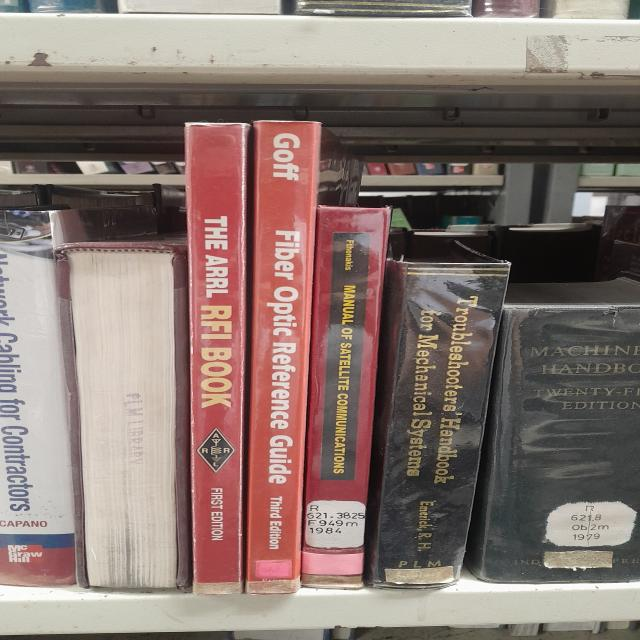book: (467, 303, 640, 583), (365, 261, 509, 589), (67, 248, 177, 588), (245, 121, 323, 594), (301, 206, 390, 581), (184, 123, 251, 594), (0, 210, 77, 586)
